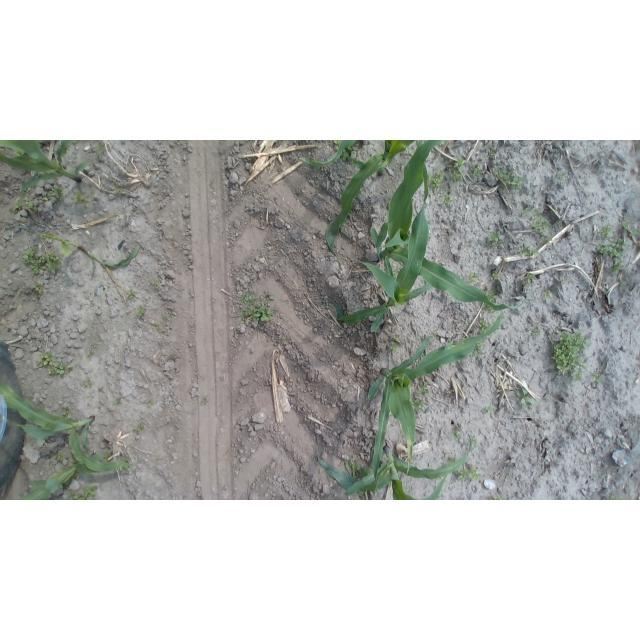Maize: (371, 141, 534, 312), (367, 312, 506, 484), (326, 141, 435, 332), (325, 140, 432, 268), (1, 380, 134, 474), (317, 431, 477, 500), (1, 141, 92, 196), (20, 452, 104, 500), (297, 141, 370, 172)
Weeds: (551, 330, 590, 383), (235, 291, 278, 327), (22, 248, 64, 276), (595, 237, 629, 271), (37, 351, 74, 377), (493, 165, 523, 192), (64, 482, 100, 500), (12, 191, 36, 216), (529, 212, 552, 234), (516, 387, 536, 409), (450, 157, 466, 184), (427, 167, 445, 190), (40, 186, 64, 202), (456, 467, 483, 481), (410, 394, 426, 415), (619, 220, 637, 237), (596, 225, 615, 240), (520, 245, 539, 259), (488, 230, 503, 247), (349, 459, 363, 477), (74, 192, 88, 207), (389, 336, 401, 353), (474, 340, 486, 357), (441, 192, 455, 206), (486, 287, 499, 301), (32, 282, 46, 295), (95, 142, 108, 156), (418, 381, 431, 395), (133, 421, 146, 434), (485, 146, 499, 158), (479, 318, 490, 333), (471, 165, 484, 177), (153, 319, 167, 330), (341, 147, 351, 162), (468, 272, 479, 284), (556, 172, 567, 184), (136, 306, 147, 318), (52, 451, 65, 461), (593, 373, 604, 384), (103, 451, 114, 462), (85, 346, 95, 358), (121, 457, 131, 469), (114, 184, 123, 197), (453, 428, 462, 441), (524, 273, 534, 284), (200, 396, 210, 407), (61, 408, 71, 419), (113, 395, 124, 405), (82, 379, 93, 389), (543, 235, 554, 245), (447, 455, 458, 465), (519, 206, 531, 215), (483, 405, 495, 414), (491, 493, 506, 500), (125, 289, 135, 299), (120, 462, 131, 471), (150, 279, 160, 288), (531, 329, 541, 338), (544, 288, 553, 298), (469, 437, 477, 448), (492, 272, 501, 281), (200, 374, 209, 383), (606, 493, 619, 499), (146, 399, 155, 407), (562, 275, 571, 282), (483, 305, 492, 312), (332, 141, 341, 146)
